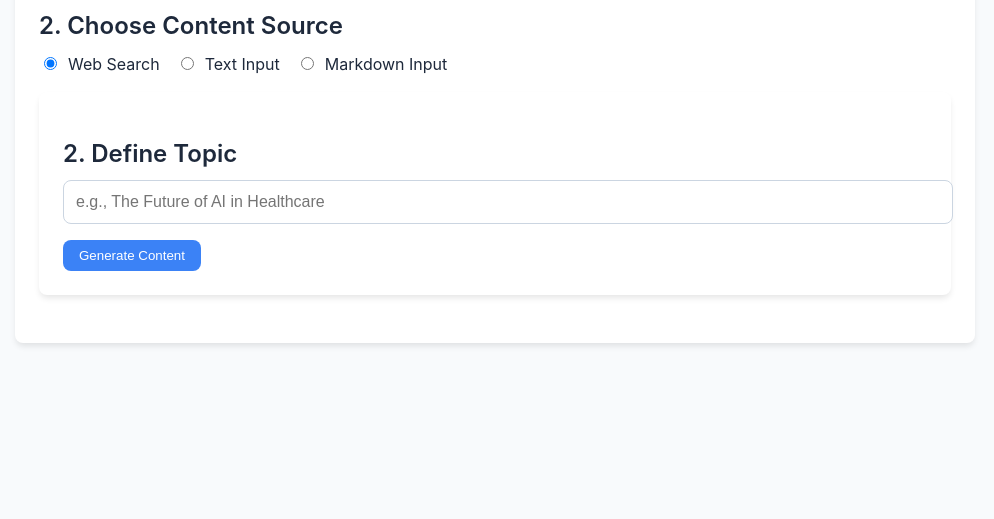
ContentInput › Markdown Parsing › disables generate button during loading
Click the radio button labelled "Markdown Input" at (307,63), box [301,57,314,70]
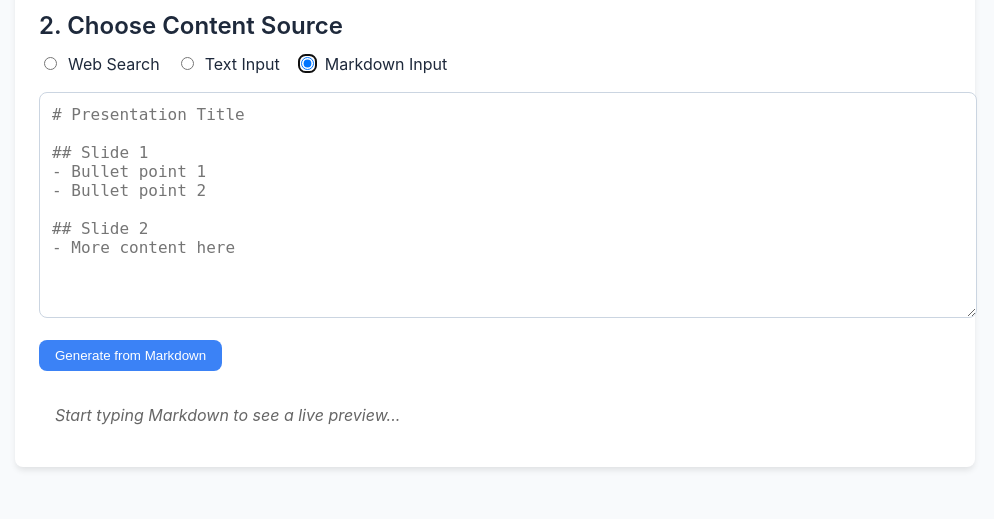
Type "# Test" into the text box with placeholder "# Presentation Title" at (508,205), box [39,92,977,318]
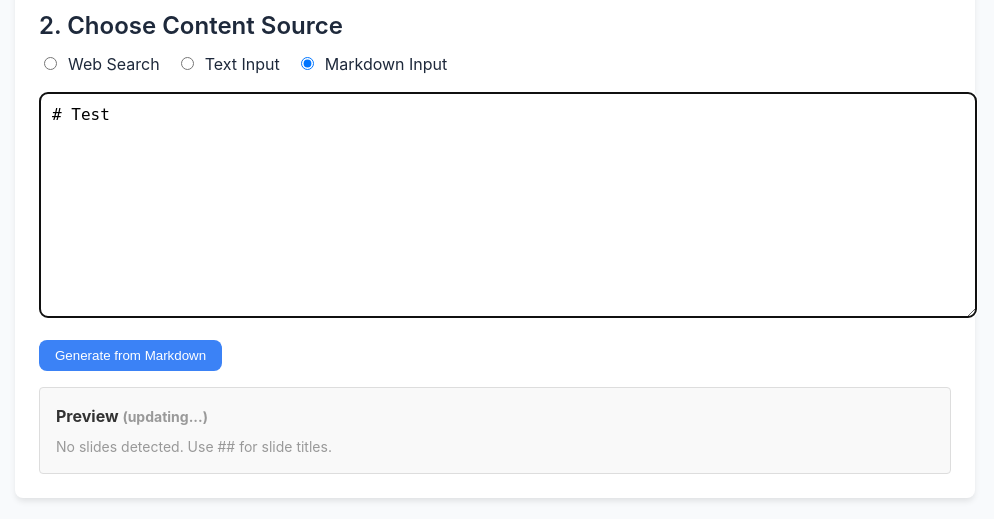
Click the button "Generate from Markdown" at (131,355), box [39,340,222,371]
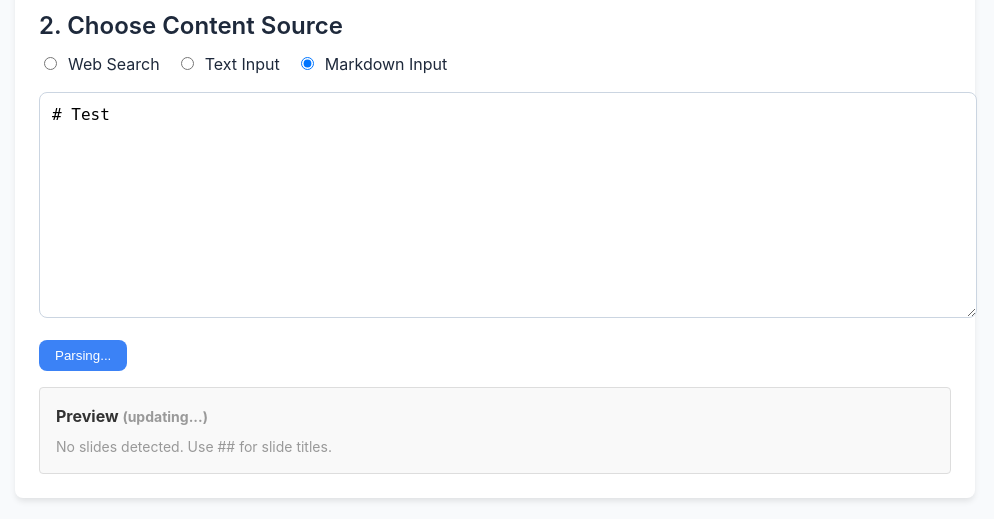
Check: the button "Generate from Markdown" is disabled, box [39,340,127,371]
